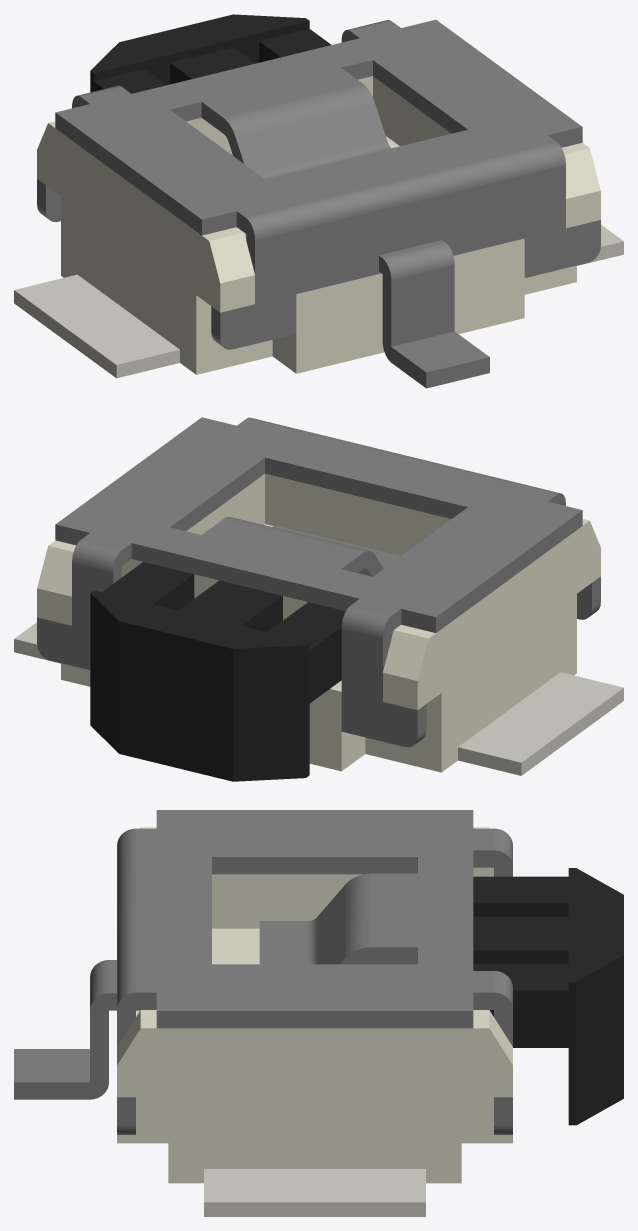
The model's file is kc-sw_spst_b3u-3100p-b.glb.
3 views of the same model, one above another, from view 1: azimuth 30°, elevation 25°; view 2: azimuth 150°, elevation 25°; view 3: azimuth 270°, elevation 25° (orthographic). The views are drawn at different scales.
Parts seen in each view (by area): view 1: 0.25_0.25_0.25_0, 0.75_0.75_0.6666666666666666_0, 0_0_0_0, 0.6666666666666666_0.6666666666666666_0.5833333333333334_0.8; view 2: 0.25_0.25_0.25_0, 0_0_0_0, 0.75_0.75_0.6666666666666666_0, 0.6666666666666666_0.6666666666666666_0.5833333333333334_0.8; view 3: 0.25_0.25_0.25_0, 0.75_0.75_0.6666666666666666_0, 0_0_0_0, 0.6666666666666666_0.6666666666666666_0.5833333333333334_0.8.
Part boxes in pixels (left/top/right/bottom): 0.25_0.25_0.25_0: left=37, top=19, right=600, bottom=388; 0.75_0.75_0.6666666666666666_0: left=37, top=76, right=600, bottom=374; 0_0_0_0: left=90, top=14, right=331, bottom=93; 0.6666666666666666_0.6666666666666666_0.5833333333333334_0.8: left=14, top=224, right=623, bottom=378; 0.25_0.25_0.25_0: left=37, top=417, right=600, bottom=747; 0_0_0_0: left=90, top=562, right=345, bottom=781; 0.75_0.75_0.6666666666666666_0: left=37, top=473, right=600, bottom=772; 0.6666666666666666_0.6666666666666666_0.5833333333333334_0.8: left=14, top=622, right=623, bottom=775; 0.25_0.25_0.25_0: left=14, top=810, right=512, bottom=1134; 0.75_0.75_0.6666666666666666_0: left=117, top=827, right=512, bottom=1183; 0_0_0_0: left=473, top=868, right=623, bottom=1125; 0.6666666666666666_0.6666666666666666_0.5833333333333334_0.8: left=204, top=1169, right=425, bottom=1216.
Bounding box in the file's own units: 0.4 × 0.17 × 0.385.
